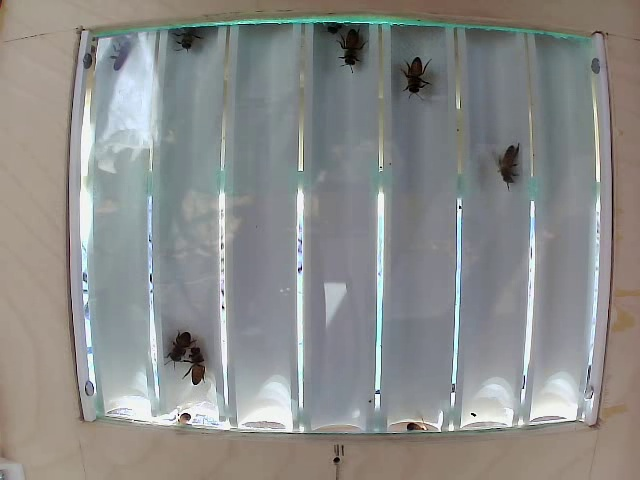bee: (391, 57, 437, 104), (488, 141, 532, 183), (342, 24, 374, 76), (174, 351, 221, 381), (185, 22, 210, 57), (167, 327, 190, 361)
